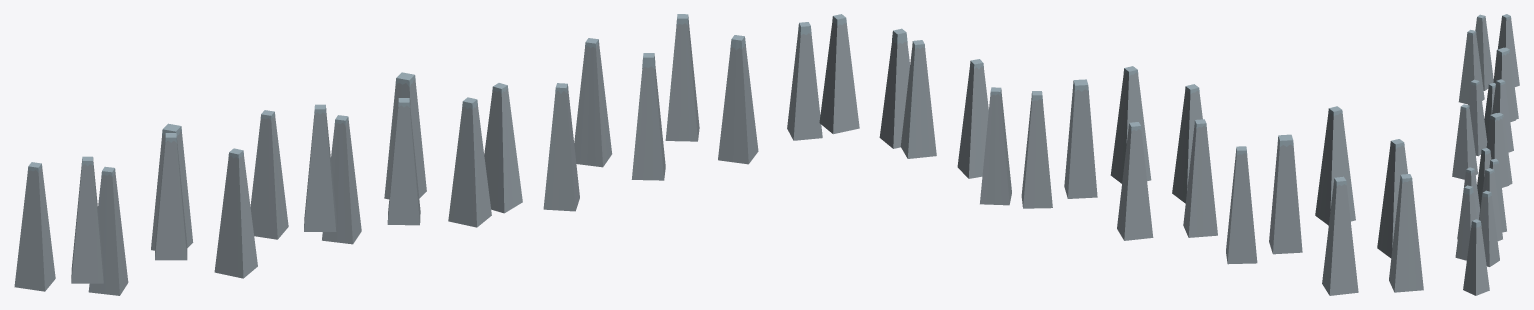
Rendered from buildings2.fbx.
The picture shows the model from 3 angles, left to right: view 1: azimuth 30°, elevation 25°; view 2: azimuth 150°, elevation 25°; view 3: azimuth 270°, elevation 25°; orthographic projection. The views are drawn at different scales.
Parts seen in each view (by area): view 1: Cube.021, Cube.038, Cube.034, Cube.005, Cube.015, Cube.017, Cube.011, Cube.013, Cube.007, Cube.008, Cube.039, Cube.036 (+6 smaller); view 2: Cube.007, Cube.037, Cube.020, Cube.035, Cube.018, Cube.011, Cube.005, Cube.034, Cube.017, Cube.013, Cube.015, Cube.038 (+6 smaller); view 3: Cube.005, Cube.022, Cube.039, Cube.007, Cube.020, Cube.019, Cube.008, Cube.036, Cube.037, Cube.017, Cube.034, Cube.011 (+6 smaller).
Part boxes in pixels (left/top/right/bottom): Cube.021: left=448, top=97, right=491, bottom=227; Cube.038: left=214, top=148, right=257, bottom=278; Cube.034: left=14, top=162, right=55, bottom=291; Cube.005: left=718, top=35, right=758, bottom=164; Cube.015: left=484, top=83, right=522, bottom=213; Cube.017: left=250, top=110, right=288, bottom=239; Cube.011: left=574, top=38, right=612, bottom=167; Cube.013: left=543, top=83, right=579, bottom=211; Cube.007: left=665, top=14, right=699, bottom=141; Cube.008: left=631, top=53, right=665, bottom=180; Cube.039: left=155, top=133, right=187, bottom=260; Cube.036: left=71, top=156, right=103, bottom=283; Cube.007: left=819, top=14, right=859, bottom=134; Cube.037: left=1269, top=134, right=1302, bottom=254; Cube.020: left=1064, top=79, right=1097, bottom=198; Cube.035: left=1322, top=176, right=1358, bottom=295; Cube.018: left=1117, top=122, right=1153, bottom=240; Cube.011: left=900, top=40, right=936, bottom=158; Cube.005: left=787, top=22, right=822, bottom=140; Cube.034: left=1389, top=174, right=1423, bottom=292; Cube.017: left=1183, top=119, right=1217, bottom=237; Cube.013: left=957, top=59, right=988, bottom=178; Cube.015: left=980, top=87, right=1011, bottom=205; Cube.038: left=1226, top=146, right=1257, bottom=264; Cube.005: left=1463, top=219, right=1489, bottom=295; Cube.022: left=1452, top=104, right=1477, bottom=179; Cube.039: left=1458, top=29, right=1484, bottom=104; Cube.007: left=1479, top=190, right=1499, bottom=266; Cube.020: left=1486, top=113, right=1509, bottom=187; Cube.019: left=1468, top=79, right=1487, bottom=156; Cube.008: left=1455, top=185, right=1476, bottom=260; Cube.036: left=1475, top=14, right=1493, bottom=90; Cube.037: left=1493, top=47, right=1515, bottom=122; Cube.017: left=1492, top=79, right=1513, bottom=152; Cube.034: left=1498, top=14, right=1519, bottom=86; Cube.011: left=1479, top=168, right=1502, bottom=241.
Size of the model in its own units: 5.64 by 1.26 by 0.7883.
